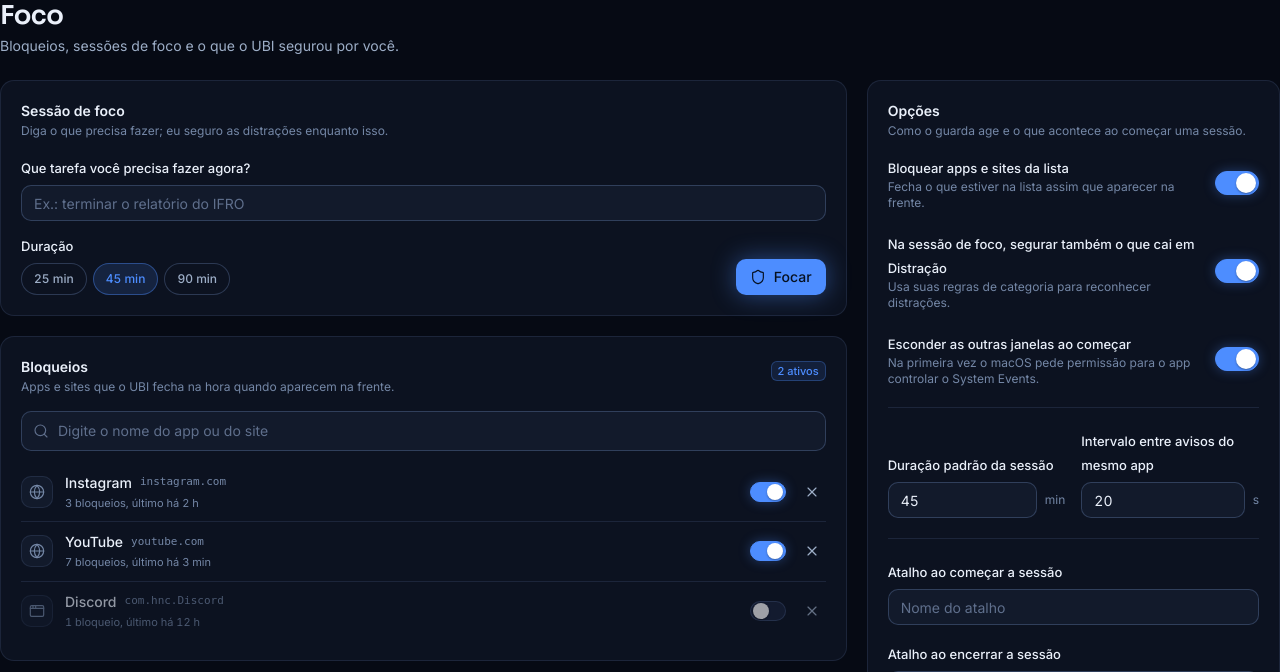
Focus page (mock backend) › starts a focus session from the card and counts down
# blank task: refused locally
Click the button "Focar" at (781, 276), box [736,258,826,294]
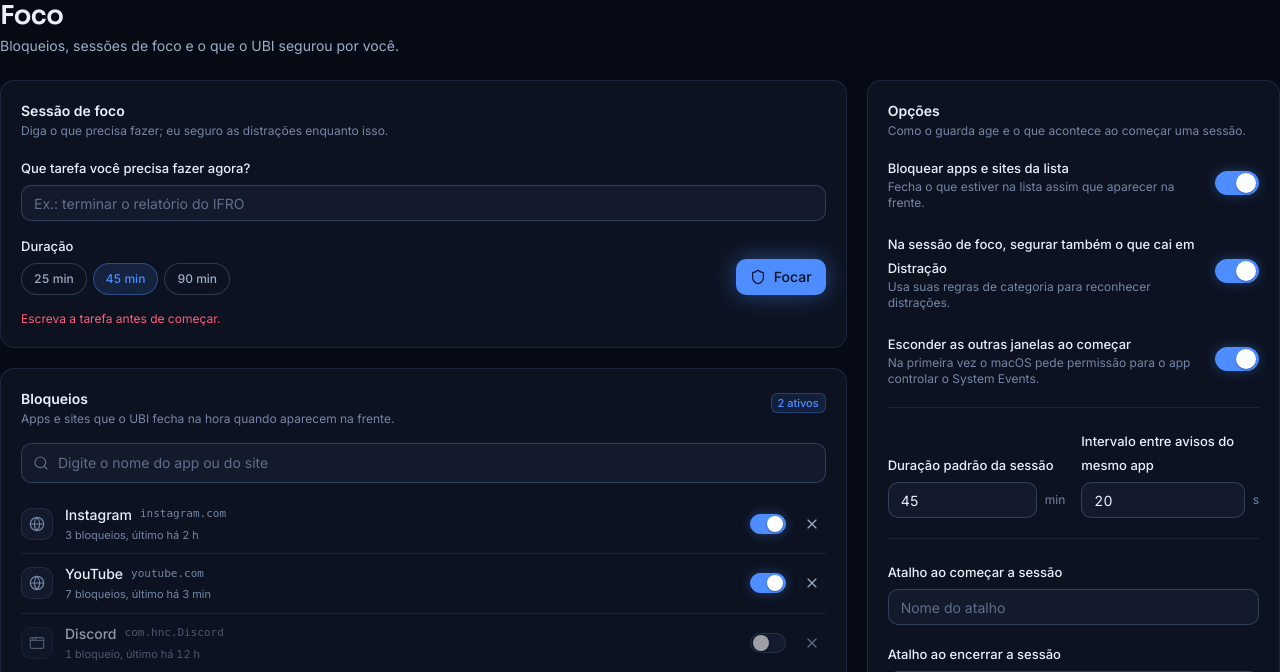
Now the message reads "Escreva a tarefa antes de começar.", box [21,310,220,326]
Type "corrigir as provas" into the field with placeholder "Ex.: terminar o relatório do IFRO" at (423, 203), box [21,185,826,221]
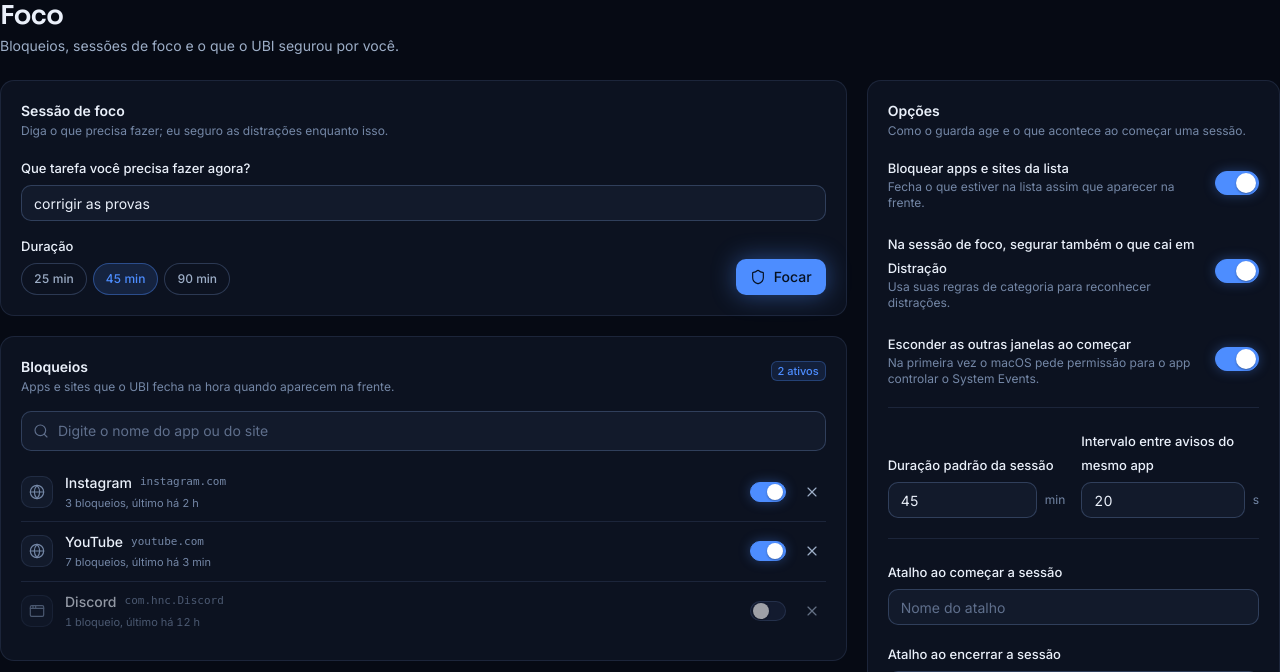
Click the radio button labelled "25 min" at (54, 278), box [21,262,87,294]
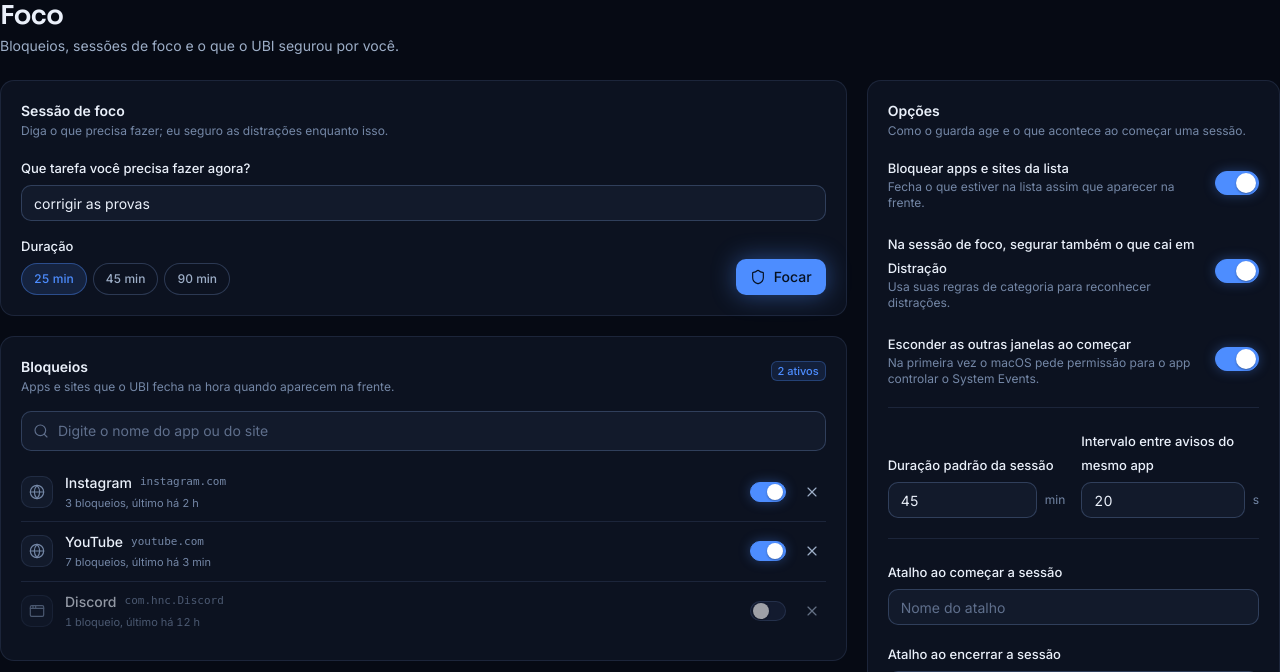
Click the button "Focar" at (781, 276), box [736,258,826,294]
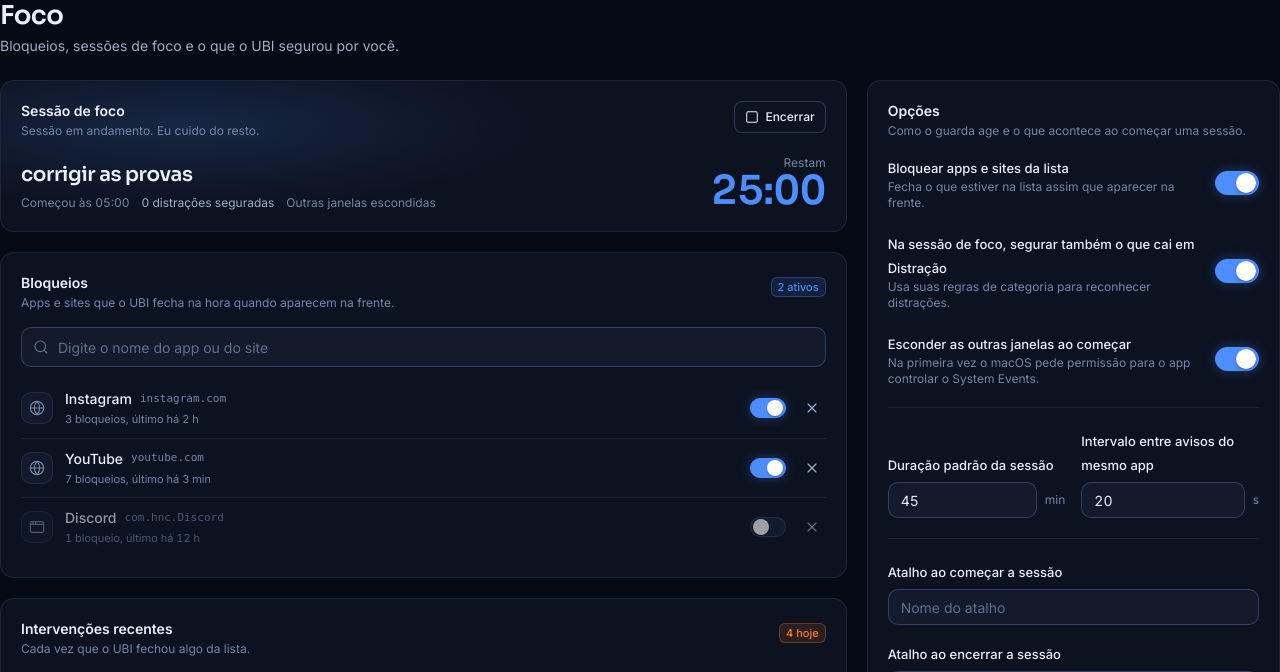
Now the text with test id "focus-countdown" reads "25:00", box [711,165,826,216]
Now the text "corrigir as provas" is shown, box [21,162,192,187]
Now the button "Encerrar" is shown
Click the button "Encerrar" at (780, 117), box [734,101,826,133]
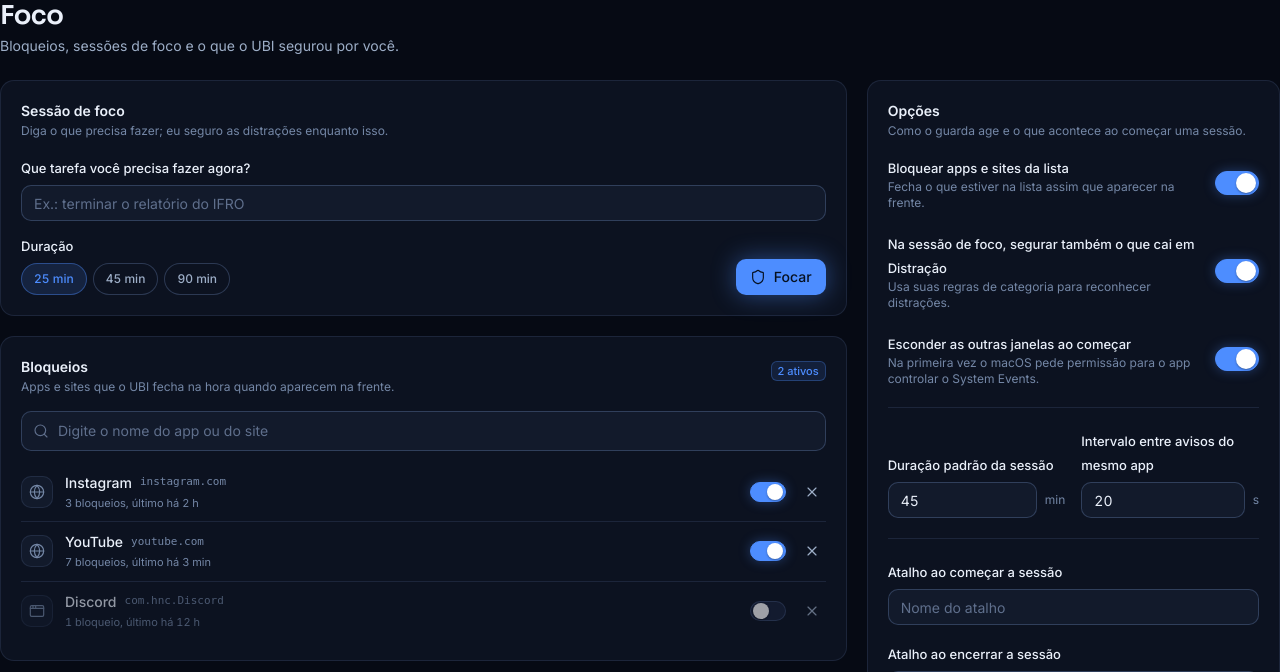
Now the button "Focar" is shown, box [736,258,826,294]
